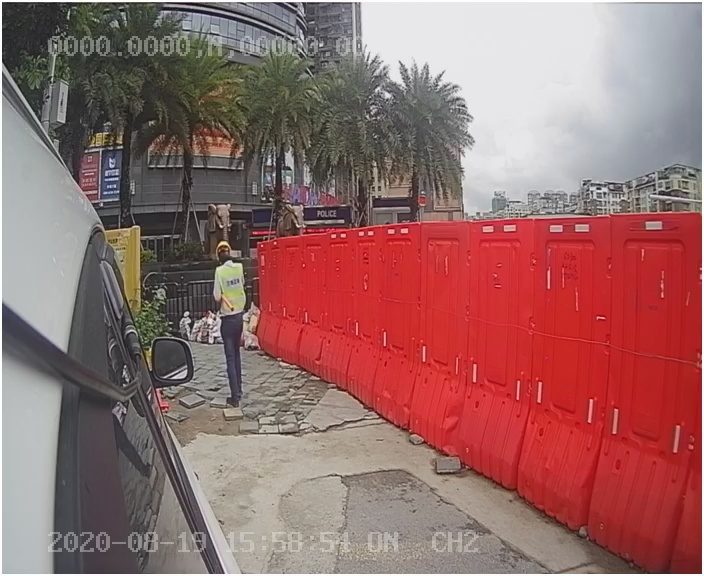person: (200, 238, 271, 415)
